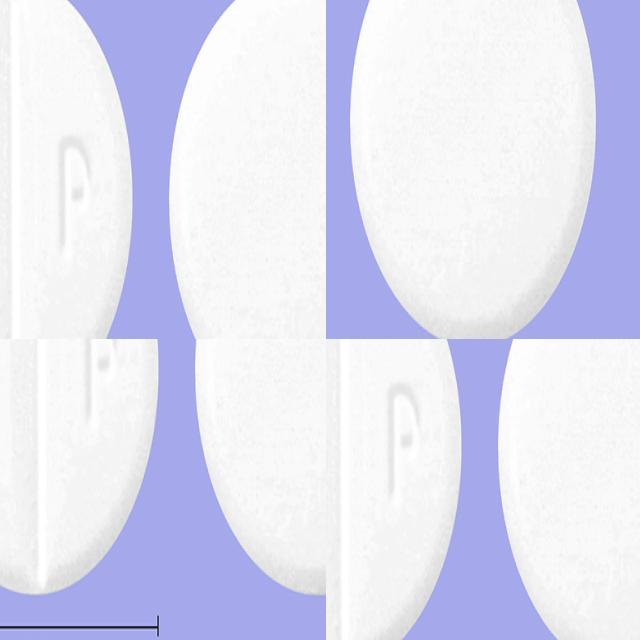Exviera: (343, 0, 632, 170)
Lamisil: (496, 339, 640, 640), (326, 339, 465, 640)
Mabid -500mg: (0, 343, 203, 593)
Nepoxin Vaginal Soft Cap: (166, 0, 326, 268), (0, 120, 169, 339)
